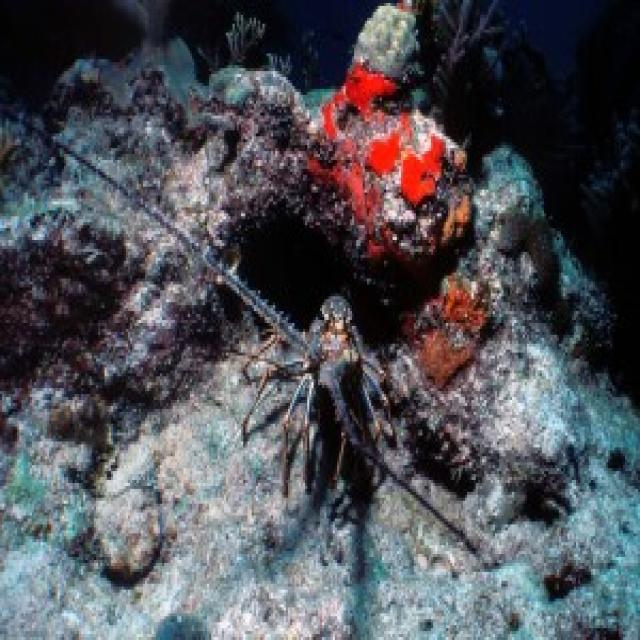lobsters: (220, 126, 410, 600)
